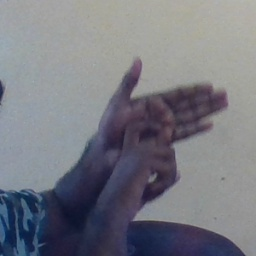R: (97, 51, 236, 209)
